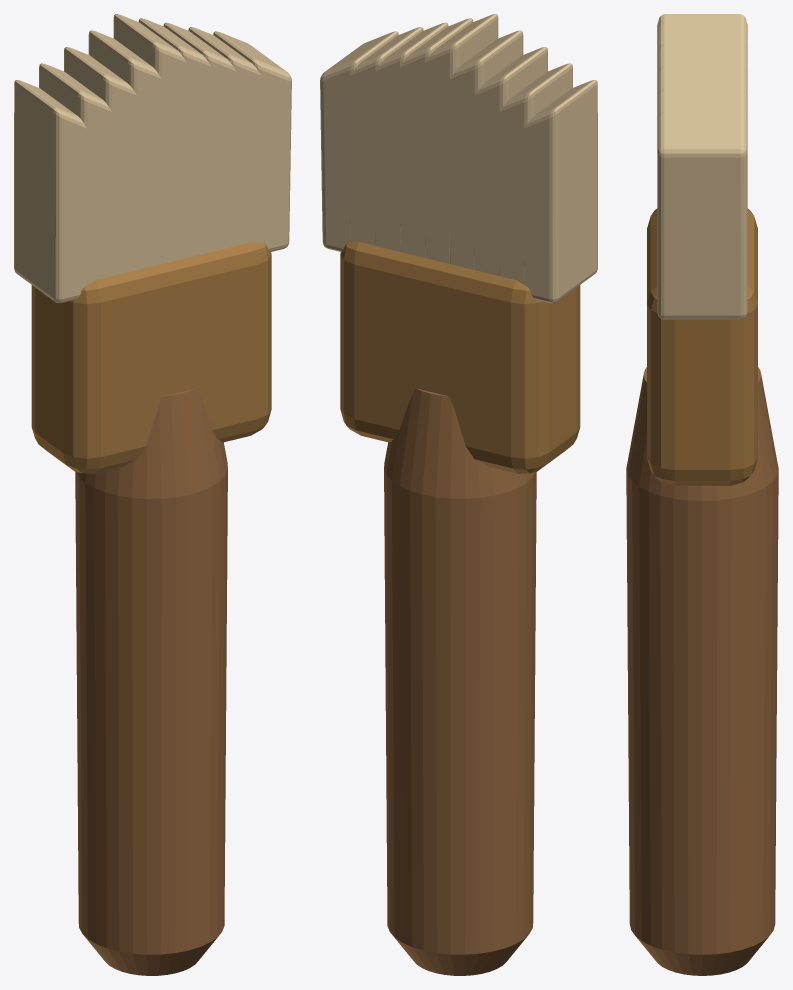
Rendered from MINING_BRUSH.hi.glb.
The picture shows the model from 3 angles, left to right: view 1: azimuth 30°, elevation 25°; view 2: azimuth 150°, elevation 25°; view 3: azimuth 270°, elevation 25°; orthographic projection.
Visible parts, largest first — view 1: Body_Mesh; view 2: Body_Mesh; view 3: Body_Mesh.
Part boxes in pixels (box(x1,y1,x2,y2)): Body_Mesh: box(14, 14, 291, 975); Body_Mesh: box(320, 14, 597, 975); Body_Mesh: box(626, 14, 778, 975).
Bounding box in the file's own units: 0.079 × 0.2953 × 0.044.
1 material, 1 textured.
